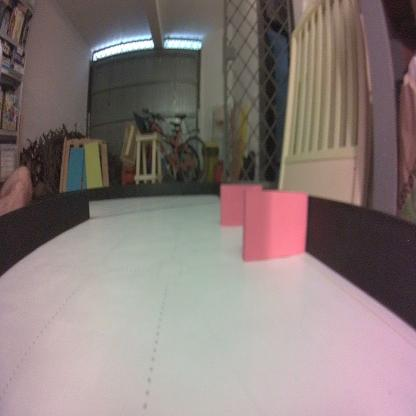magenta: (241, 187, 308, 265), (218, 180, 263, 228)
